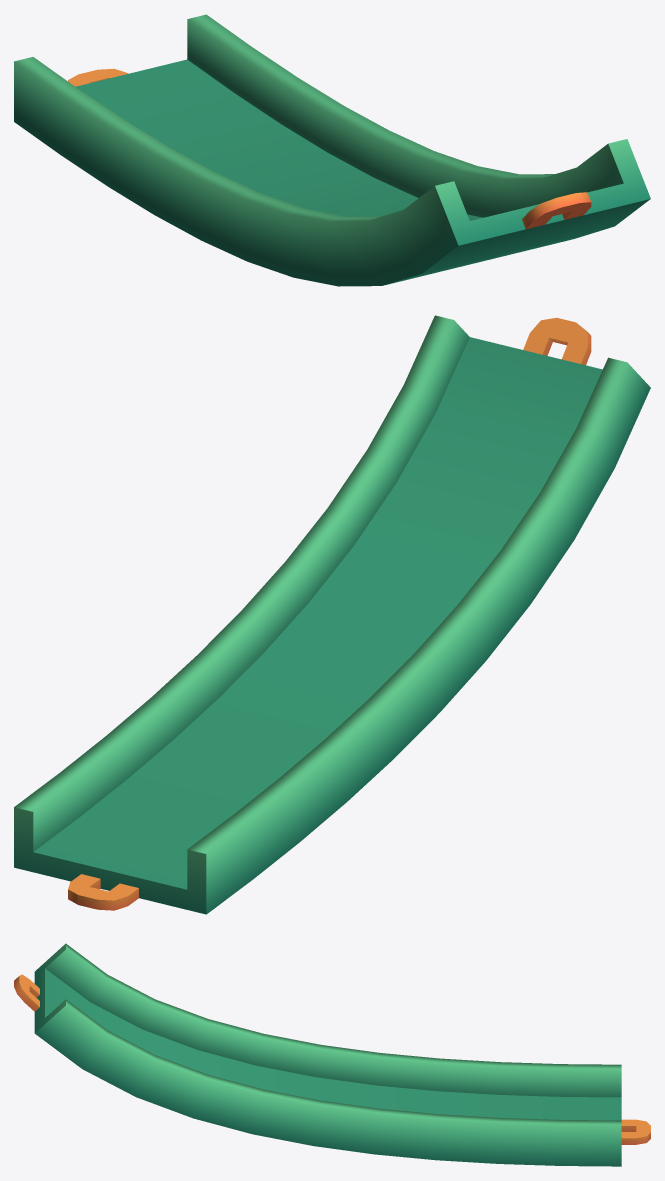
The model's file is track-narrow-straight-hill-beginning.fbx.
The picture shows the model from 3 angles, top to bottom: view 1: azimuth 30°, elevation 25°; view 2: azimuth 150°, elevation 25°; view 3: azimuth 270°, elevation 25°; orthographic projection. The views are drawn at different scales.
Parts seen in each view (by area): view 1: track-narrow-straight-hill-beginning; view 2: track-narrow-straight-hill-beginning; view 3: track-narrow-straight-hill-beginning.
Part boxes in pixels (x1,y1,x2,y2): track-narrow-straight-hill-beginning: [14, 14, 650, 286]; track-narrow-straight-hill-beginning: [14, 315, 650, 914]; track-narrow-straight-hill-beginning: [14, 943, 650, 1166].
Size of the model in its own units: 100 by 121 by 434.
